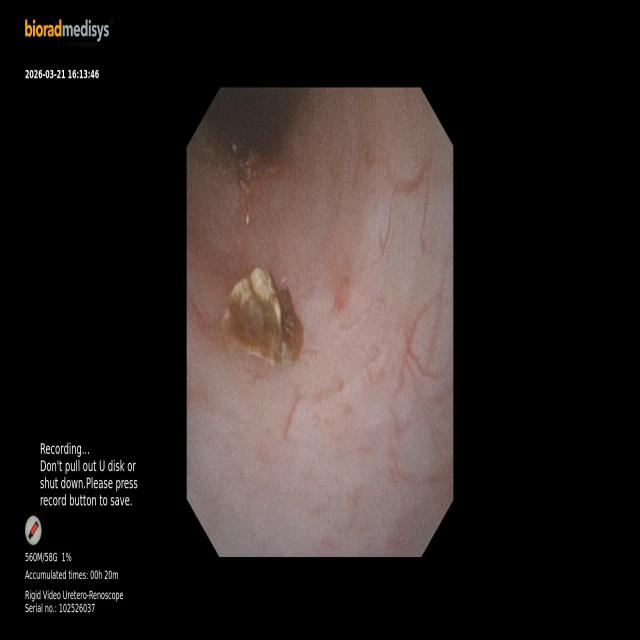stone-new: (222, 267, 303, 364)
